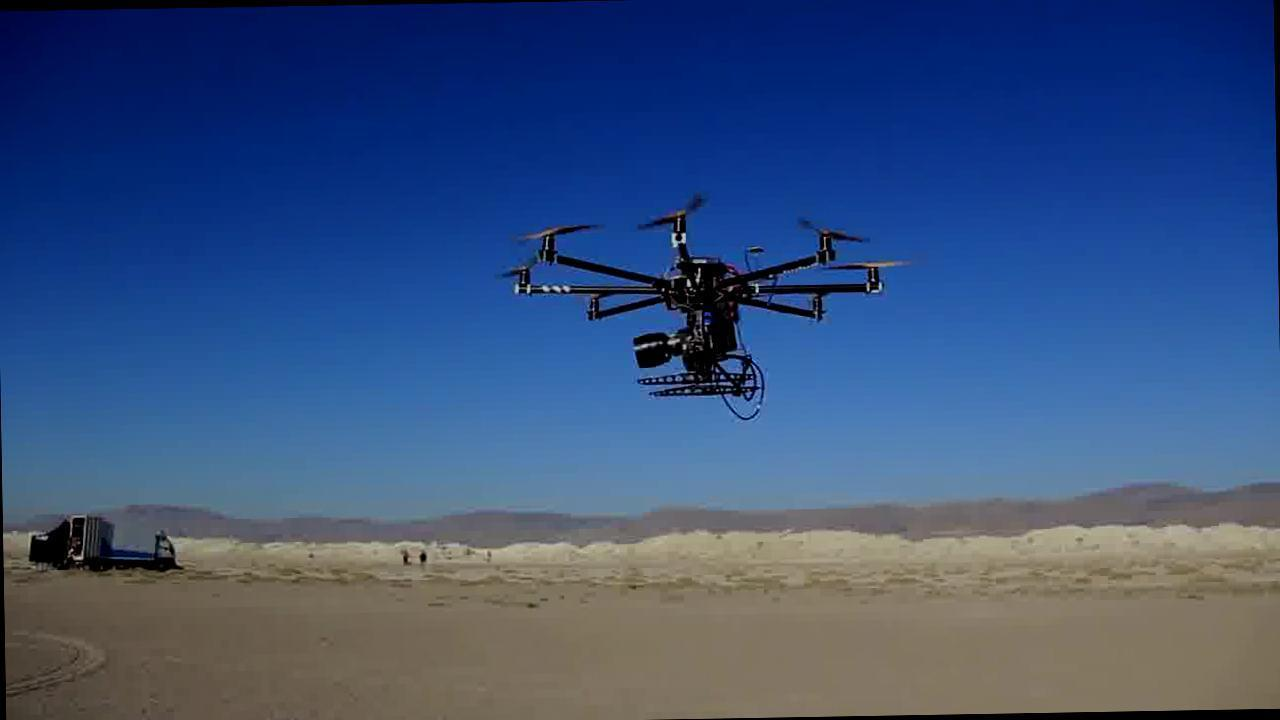drone: (494, 189, 924, 397)
